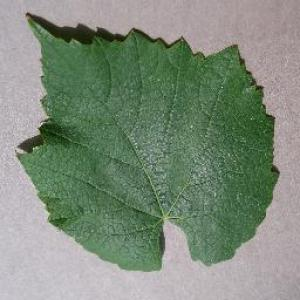Folha: (14, 10, 280, 272)
